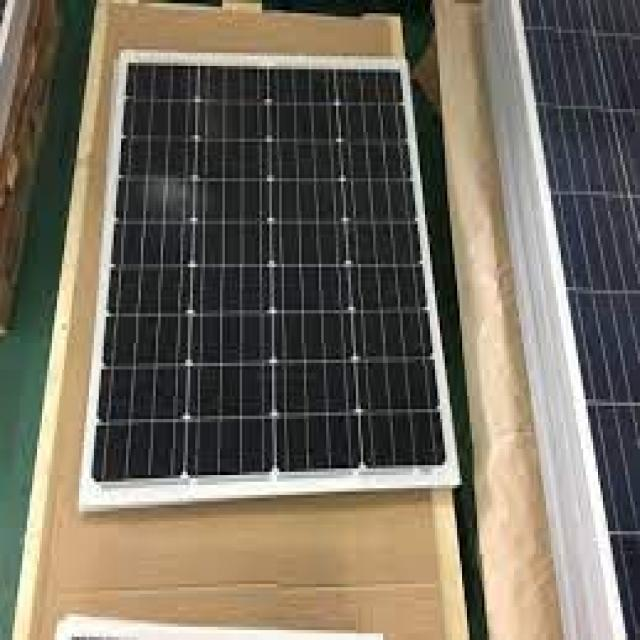no faulty: (107, 72, 418, 494)
